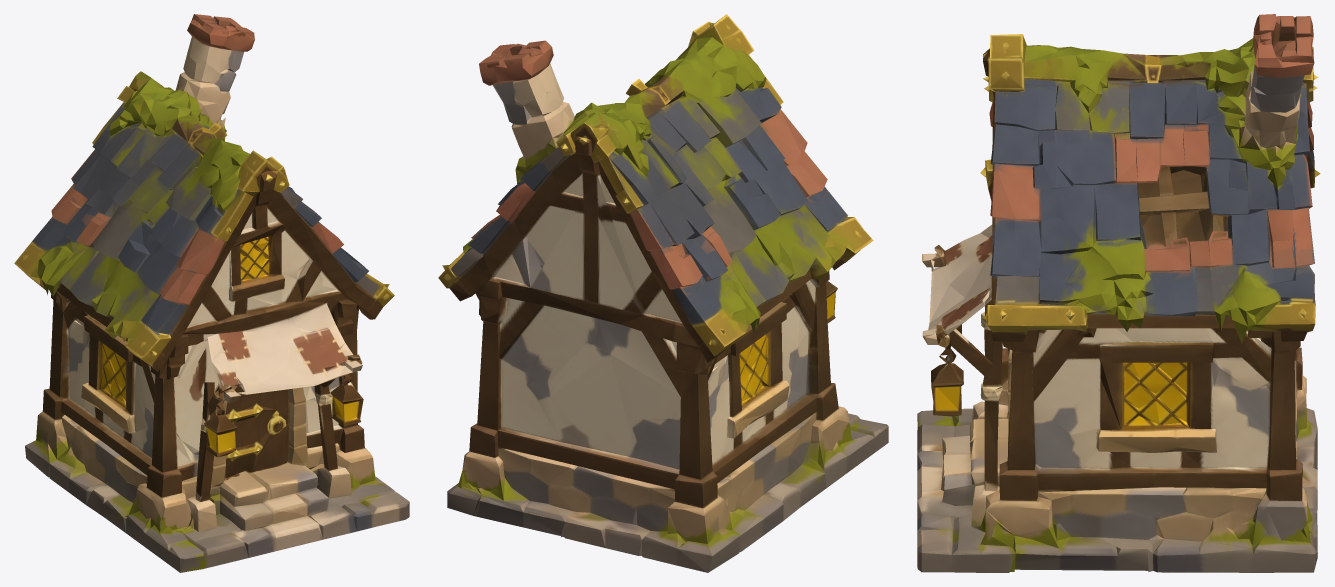
File: TWN_STR_house_C.glb
The picture shows the model from 3 angles, left to right: view 1: azimuth 30°, elevation 25°; view 2: azimuth 150°, elevation 25°; view 3: azimuth 270°, elevation 25°; orthographic projection. The views are drawn at different scales.
Parts seen in each view (by area): view 1: Mesh_0; view 2: Mesh_0; view 3: Mesh_0.
Part boxes in pixels (x1,y1,x2,y2): Mesh_0: (14, 14, 409, 572); Mesh_0: (438, 14, 888, 572); Mesh_0: (917, 14, 1320, 572).
Size of the model in its own units: 1.23 by 1.89 by 1.33.
Materials: 1 (1 with a texture image).
